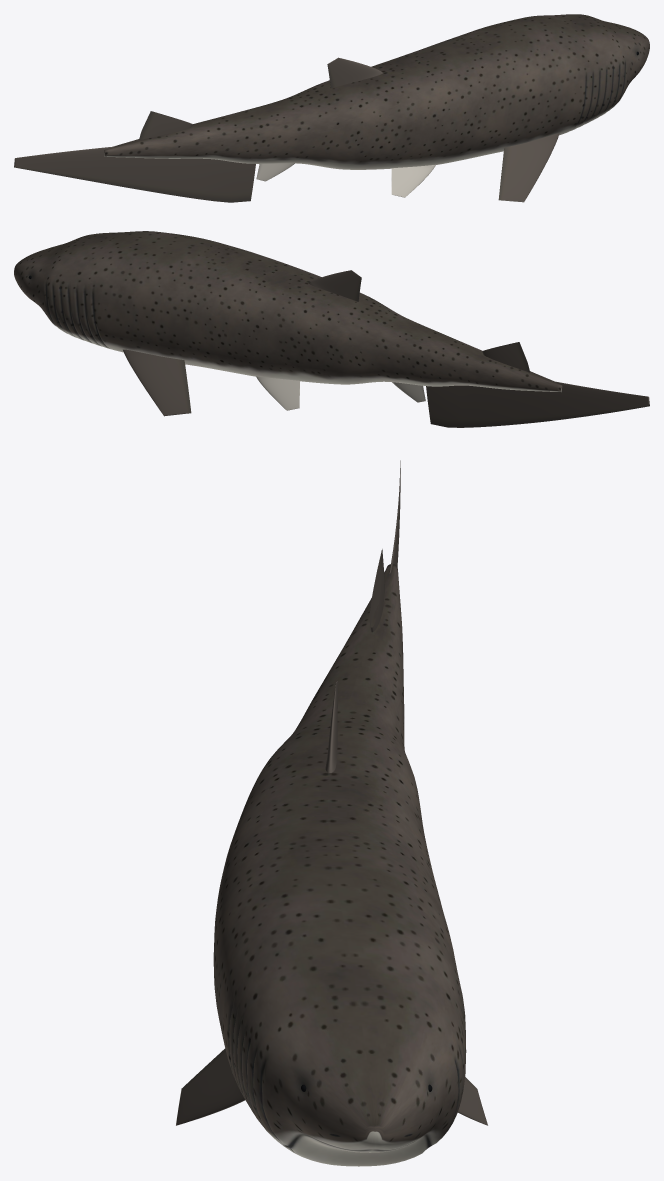
The model's file is broadnose_sevengill_shark.glb.
The picture shows the model from 3 angles, top to bottom: view 1: azimuth 30°, elevation 25°; view 2: azimuth 150°, elevation 25°; view 3: azimuth 270°, elevation 25°; orthographic projection. The views are drawn at different scales.
Visible parts, largest first — view 1: BroadnoseSevengillShark_Body, BroadnoseSevengillShark_Fins; view 2: BroadnoseSevengillShark_Body, BroadnoseSevengillShark_Fins; view 3: BroadnoseSevengillShark_Body, BroadnoseSevengillShark_Fins.
Part boxes in pixels (x1,y1,x2,y2): BroadnoseSevengillShark_Body: (104, 14, 649, 169); BroadnoseSevengillShark_Fins: (14, 57, 559, 202); BroadnoseSevengillShark_Body: (14, 231, 562, 392); BroadnoseSevengillShark_Fins: (123, 270, 649, 427); BroadnoseSevengillShark_Body: (213, 564, 466, 1166); BroadnoseSevengillShark_Fins: (176, 460, 487, 1125).
Bounding box in the file's own units: 2.5 × 0.574 × 0.5388.
Materials: 3 (1 with a texture image).
